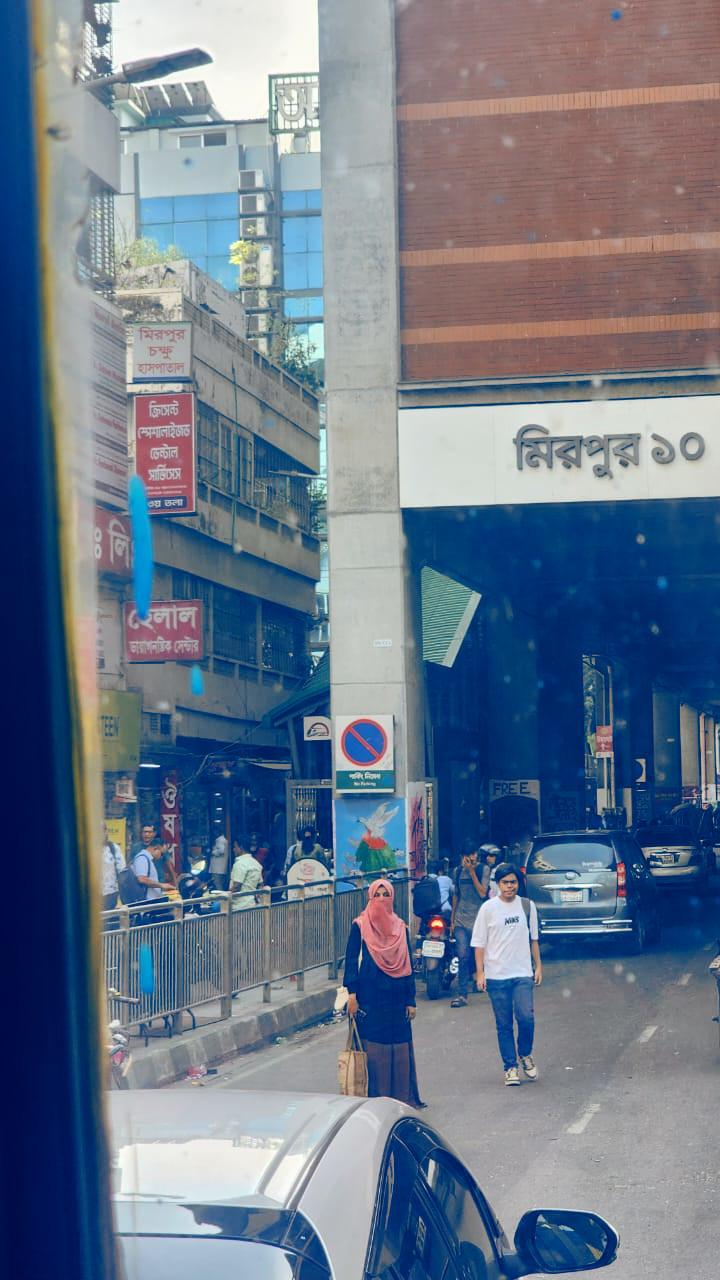No Parking: (335, 715, 396, 788)
